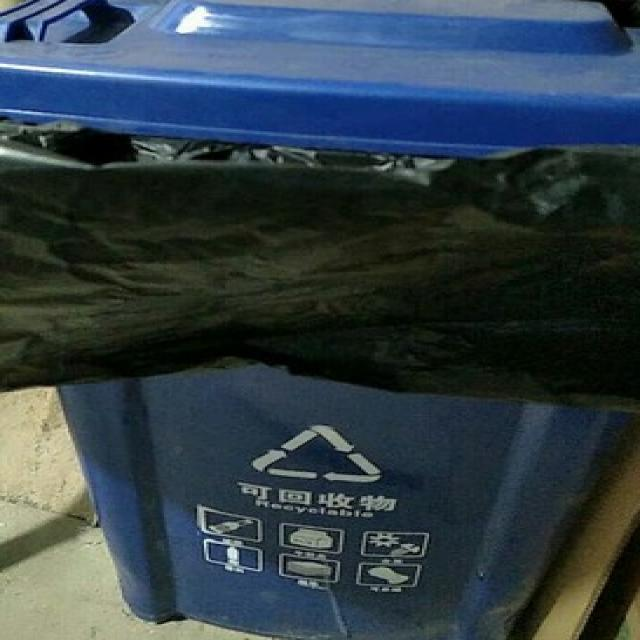ash bin: (0, 0, 637, 638)
